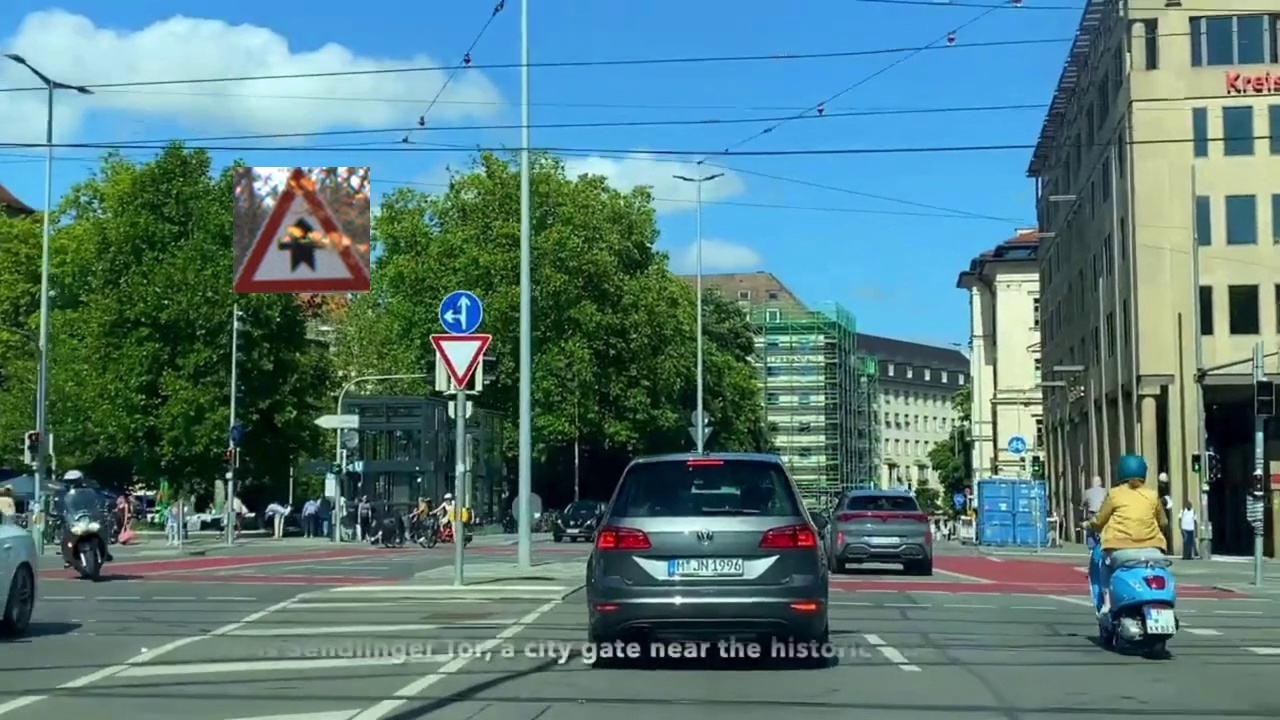Right-of-way: (233, 167, 370, 293)
